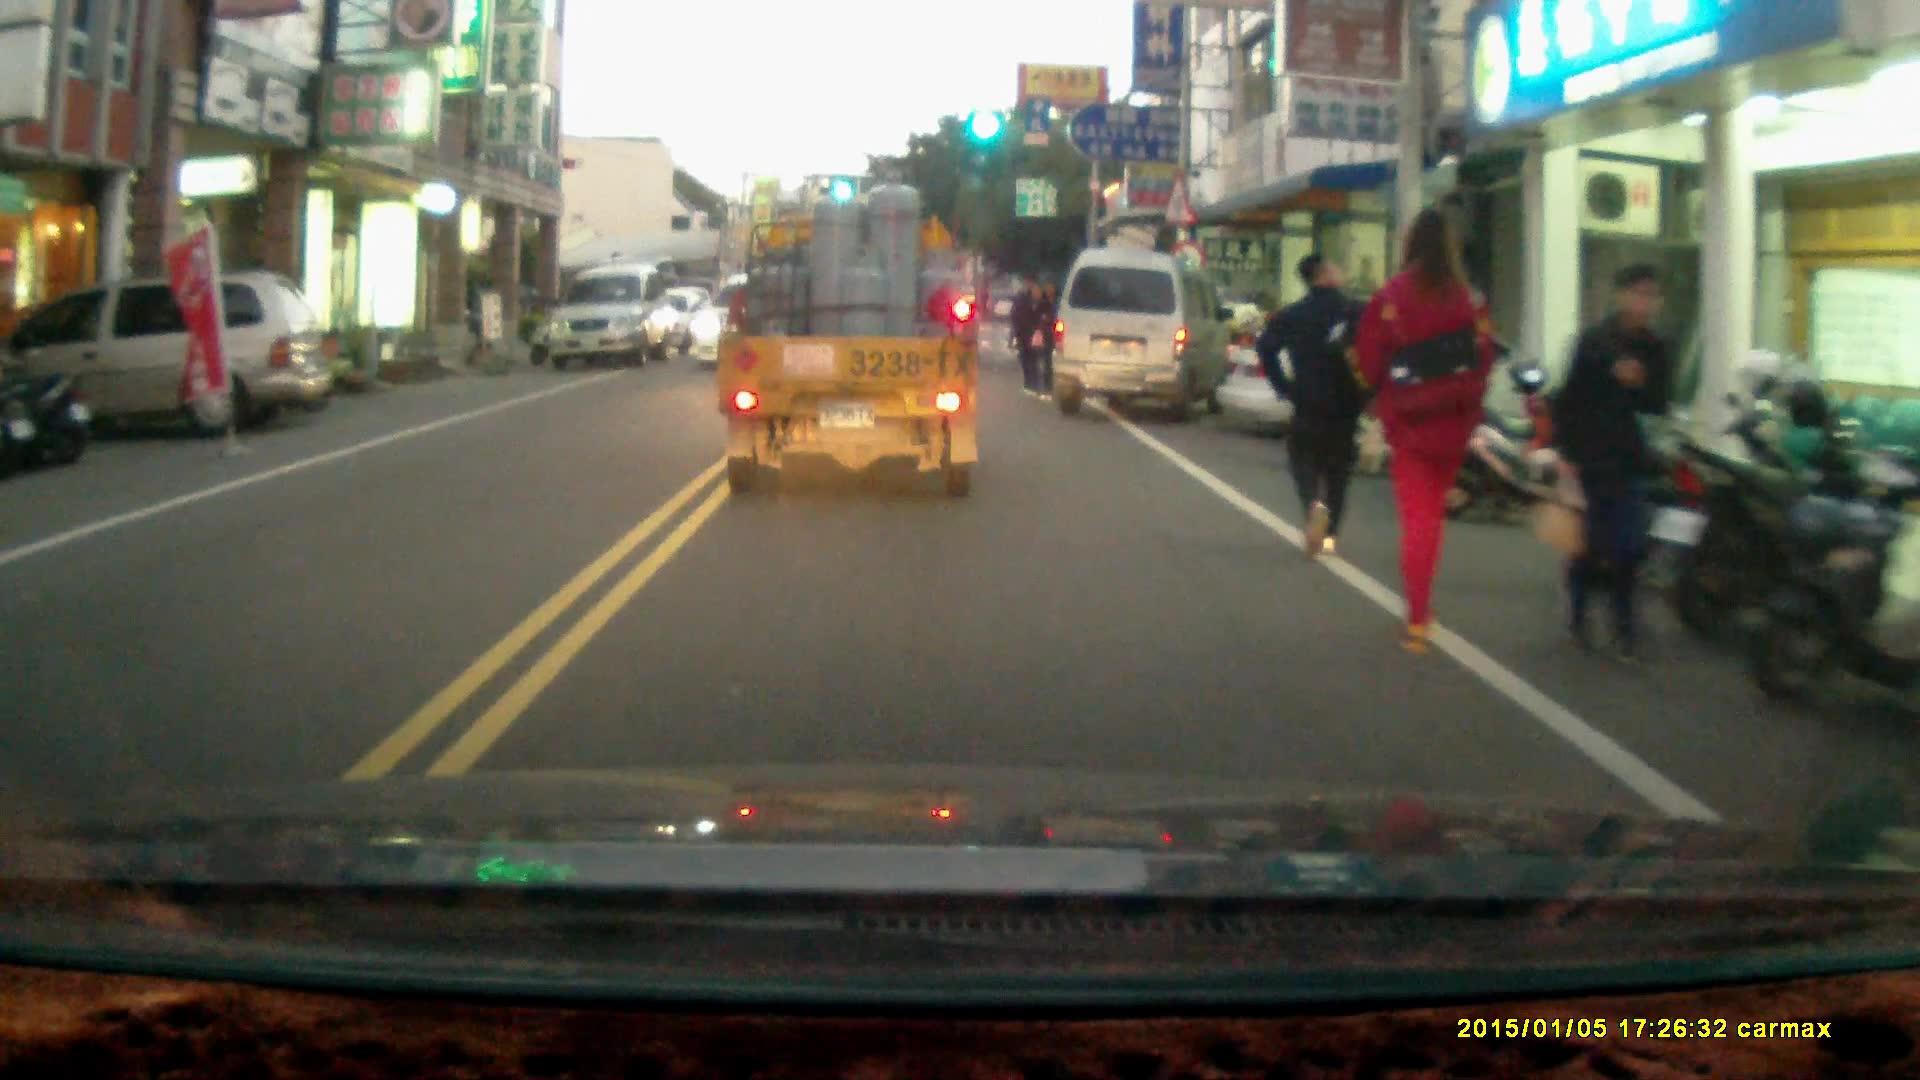pedestrian: (1357, 207, 1496, 653), (1547, 262, 1682, 673), (1257, 253, 1373, 559), (1030, 275, 1065, 401)
vehicle: (718, 169, 990, 508), (6, 271, 335, 446), (1222, 299, 1582, 452), (1055, 244, 1230, 417), (550, 264, 682, 371)
